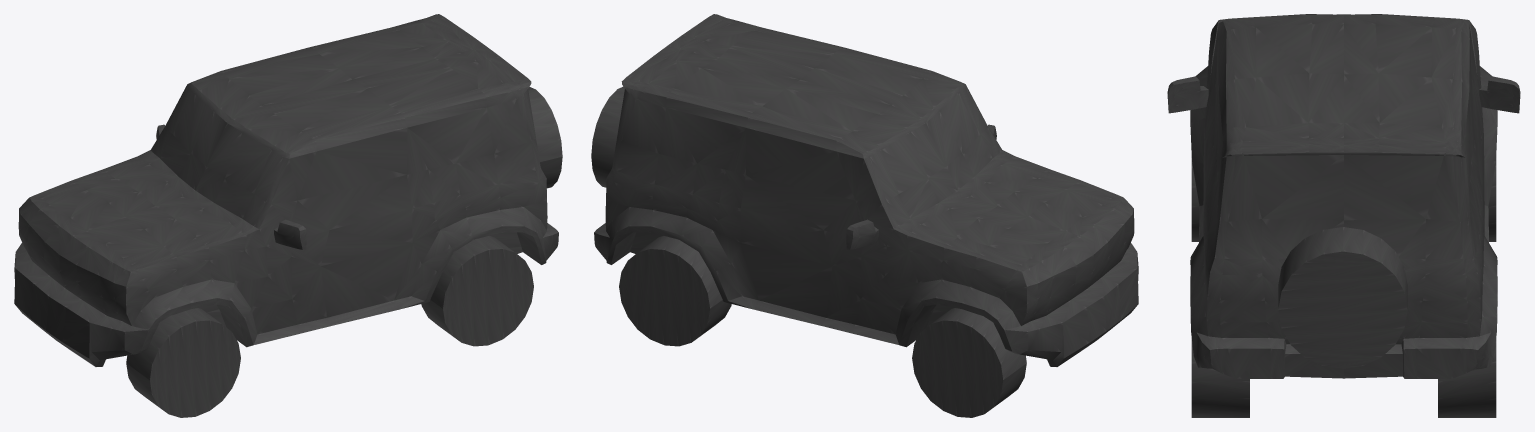
Rendered from car.obj.
The picture shows the model from 3 angles, left to right: view 1: azimuth 30°, elevation 25°; view 2: azimuth 150°, elevation 25°; view 3: azimuth 270°, elevation 25°; orthographic projection. The views are drawn at different scales.
Visible parts, largest first — view 1: Meshsuzukijimny20191; view 2: Meshsuzukijimny20191; view 3: Meshsuzukijimny20191.
Boxes of the visible parts, x1=… form: Meshsuzukijimny20191: x1=14, y1=14, x2=562, y2=417; Meshsuzukijimny20191: x1=591, y1=14, x2=1138, y2=417; Meshsuzukijimny20191: x1=1167, y1=14, x2=1520, y2=417.
Bounding box in the file's own units: 113 × 52.9 × 57.26.
1 material, 1 textured.
